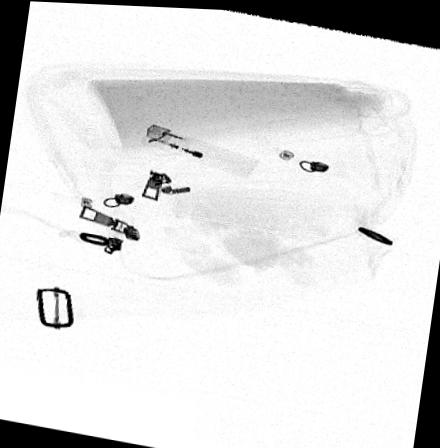Lighter: (140, 121, 259, 176)
